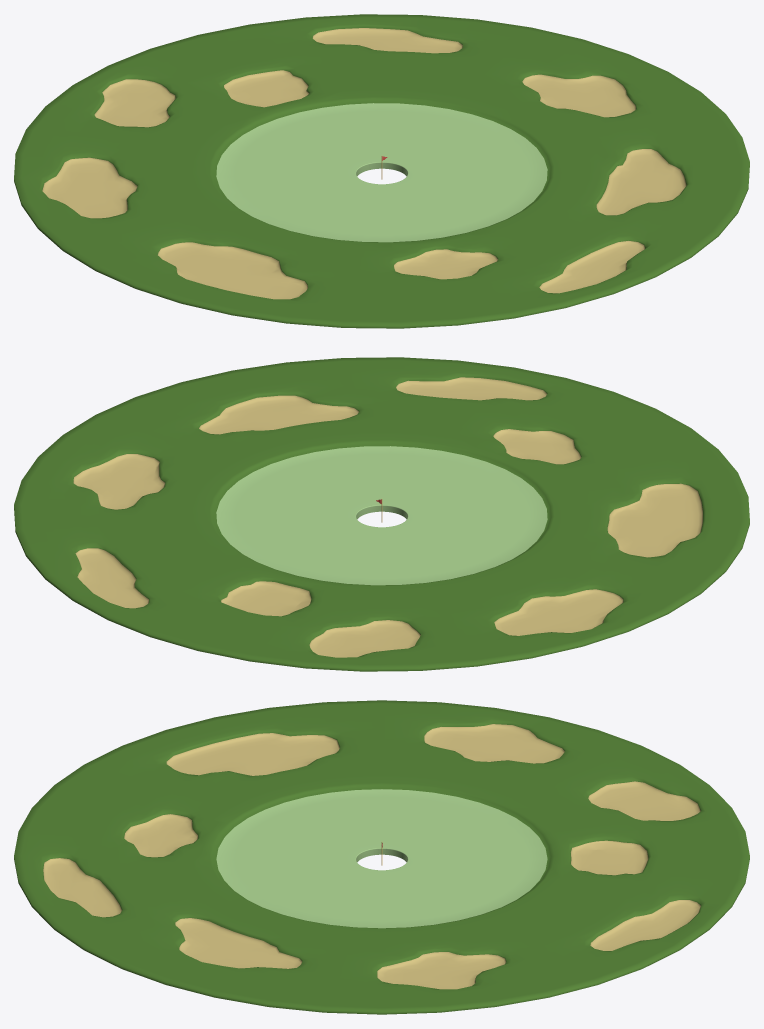
The model's file is Gs_Stage.fbx.
3 renders of one model, top to bottom at view 1: azimuth 30°, elevation 25°; view 2: azimuth 150°, elevation 25°; view 3: azimuth 270°, elevation 25°, orthographic.
Parts seen in each view (by area): view 1: field; view 2: field; view 3: field.
Part boxes in pixels (bbox=[...]): field: bbox=[14, 14, 749, 328]; field: bbox=[14, 357, 749, 671]; field: bbox=[14, 700, 749, 1014].
Size of the model in its own units: 10000 by 358 by 10000.
